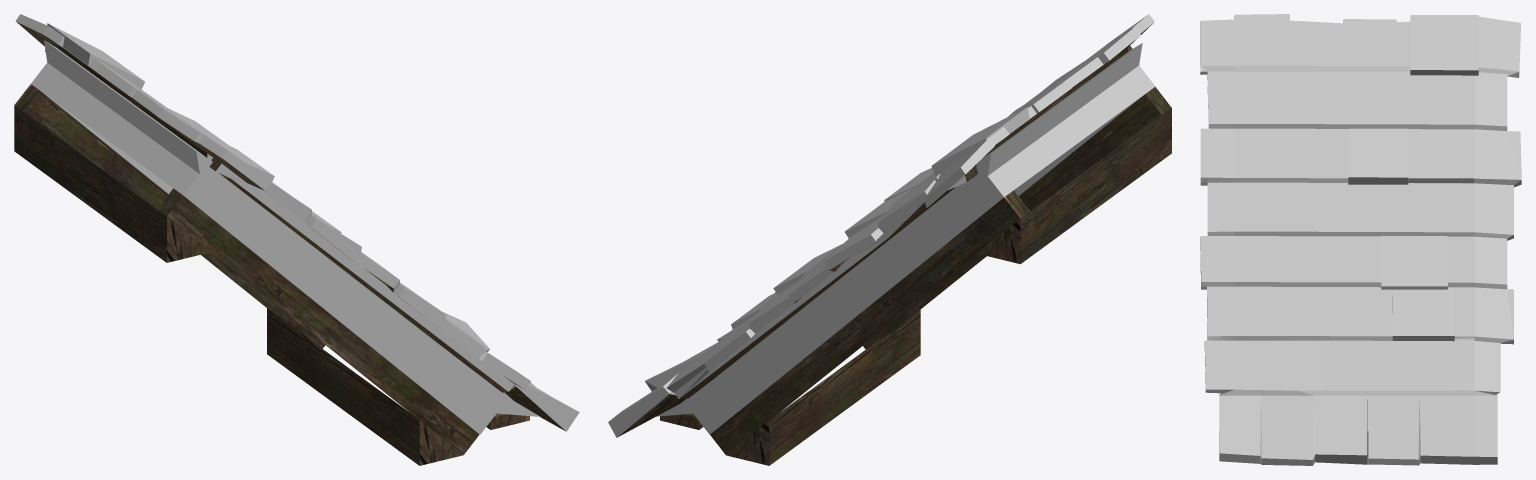
The picture shows the model from 3 angles, left to right: view 1: azimuth 30°, elevation 25°; view 2: azimuth 150°, elevation 25°; view 3: azimuth 270°, elevation 25°; orthographic projection. The views are drawn at different scales.
Visible parts, largest first — view 1: SM_T3_Roof_Med_LOD0; view 2: SM_T3_Roof_Med_LOD0; view 3: SM_T3_Roof_Med_LOD0.
Part boxes in pixels (<box>): SM_T3_Roof_Med_LOD0: <box>14,14,579,465</box>; SM_T3_Roof_Med_LOD0: <box>608,14,1171,465</box>; SM_T3_Roof_Med_LOD0: <box>1200,14,1521,465</box>.
Size of the model in its own units: 2.36 by 2.09 by 1.96.
